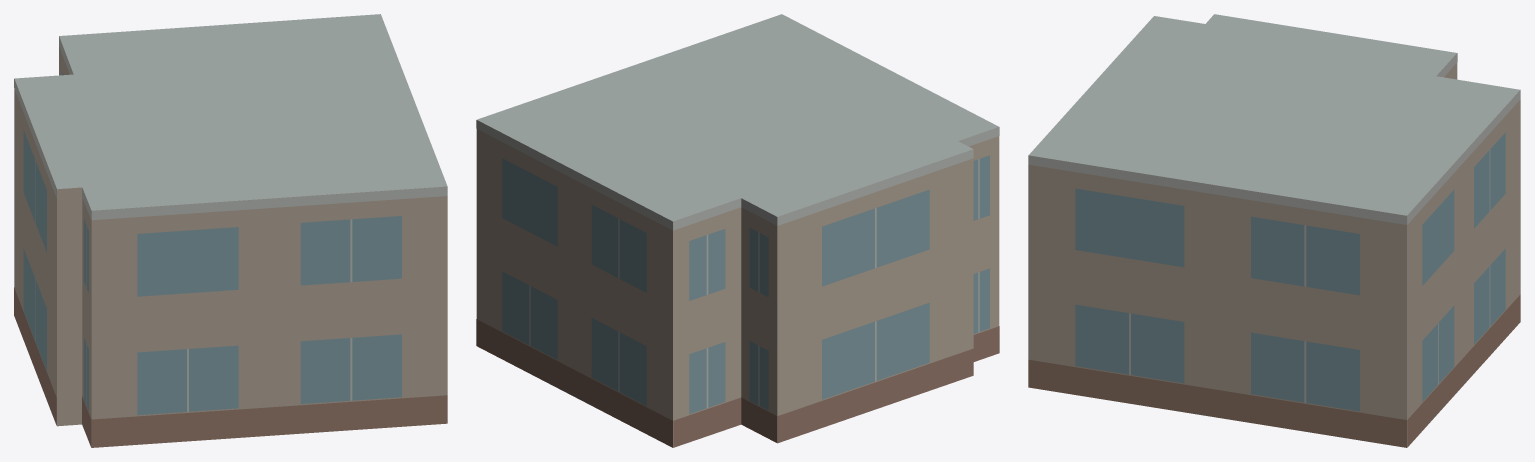
Rendered from survey-upis-32910821.glb.
The picture shows the model from 3 angles, left to right: view 1: azimuth 30°, elevation 25°; view 2: azimuth 150°, elevation 25°; view 3: azimuth 270°, elevation 25°; orthographic projection. The views are drawn at different scales.
Parts seen in each view (by area): view 1: survey-upis-32910821.tmp; view 2: survey-upis-32910821.tmp; view 3: survey-upis-32910821.tmp.
Part boxes in pixels (x1,y1,x2,y2): survey-upis-32910821.tmp: [14, 14, 447, 447]; survey-upis-32910821.tmp: [476, 14, 999, 447]; survey-upis-32910821.tmp: [1028, 14, 1520, 447].
Bounding box in the file's own units: 11.38 × 6.1 × 11.73.
